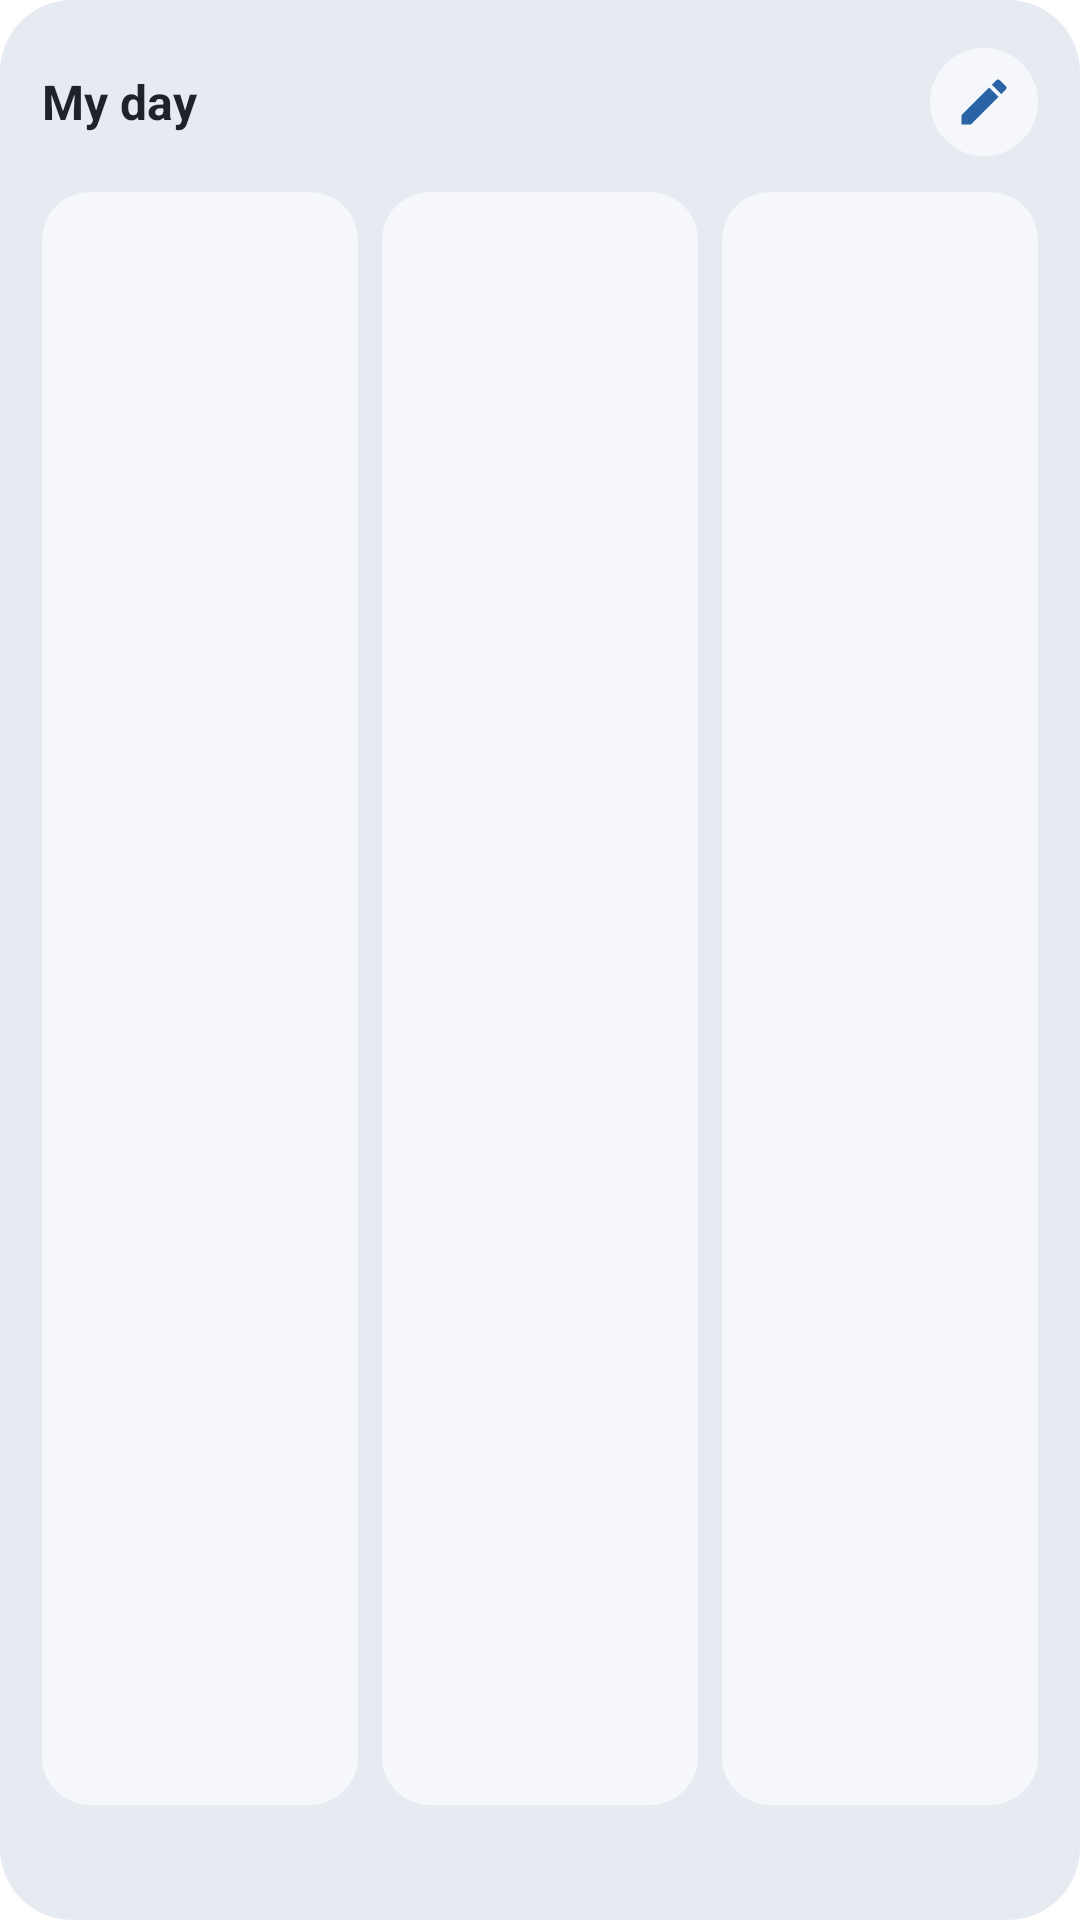

Locate icon controls on the screen. Image size 1080 x 1920, boxes as (x1, y1, x2, y2).
Compose: (930, 48, 1038, 156)
